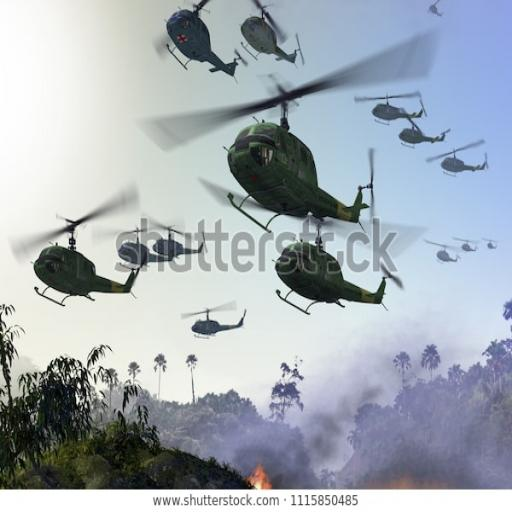helicopter: (176, 69, 394, 253), (34, 200, 140, 306), (282, 228, 400, 322), (159, 2, 241, 97), (251, 2, 313, 79), (361, 79, 429, 129), (178, 307, 257, 349), (425, 135, 498, 179), (156, 224, 203, 265), (120, 227, 153, 282), (404, 117, 452, 147), (427, 234, 465, 270), (457, 223, 479, 253), (425, 2, 448, 21), (479, 234, 498, 250)
